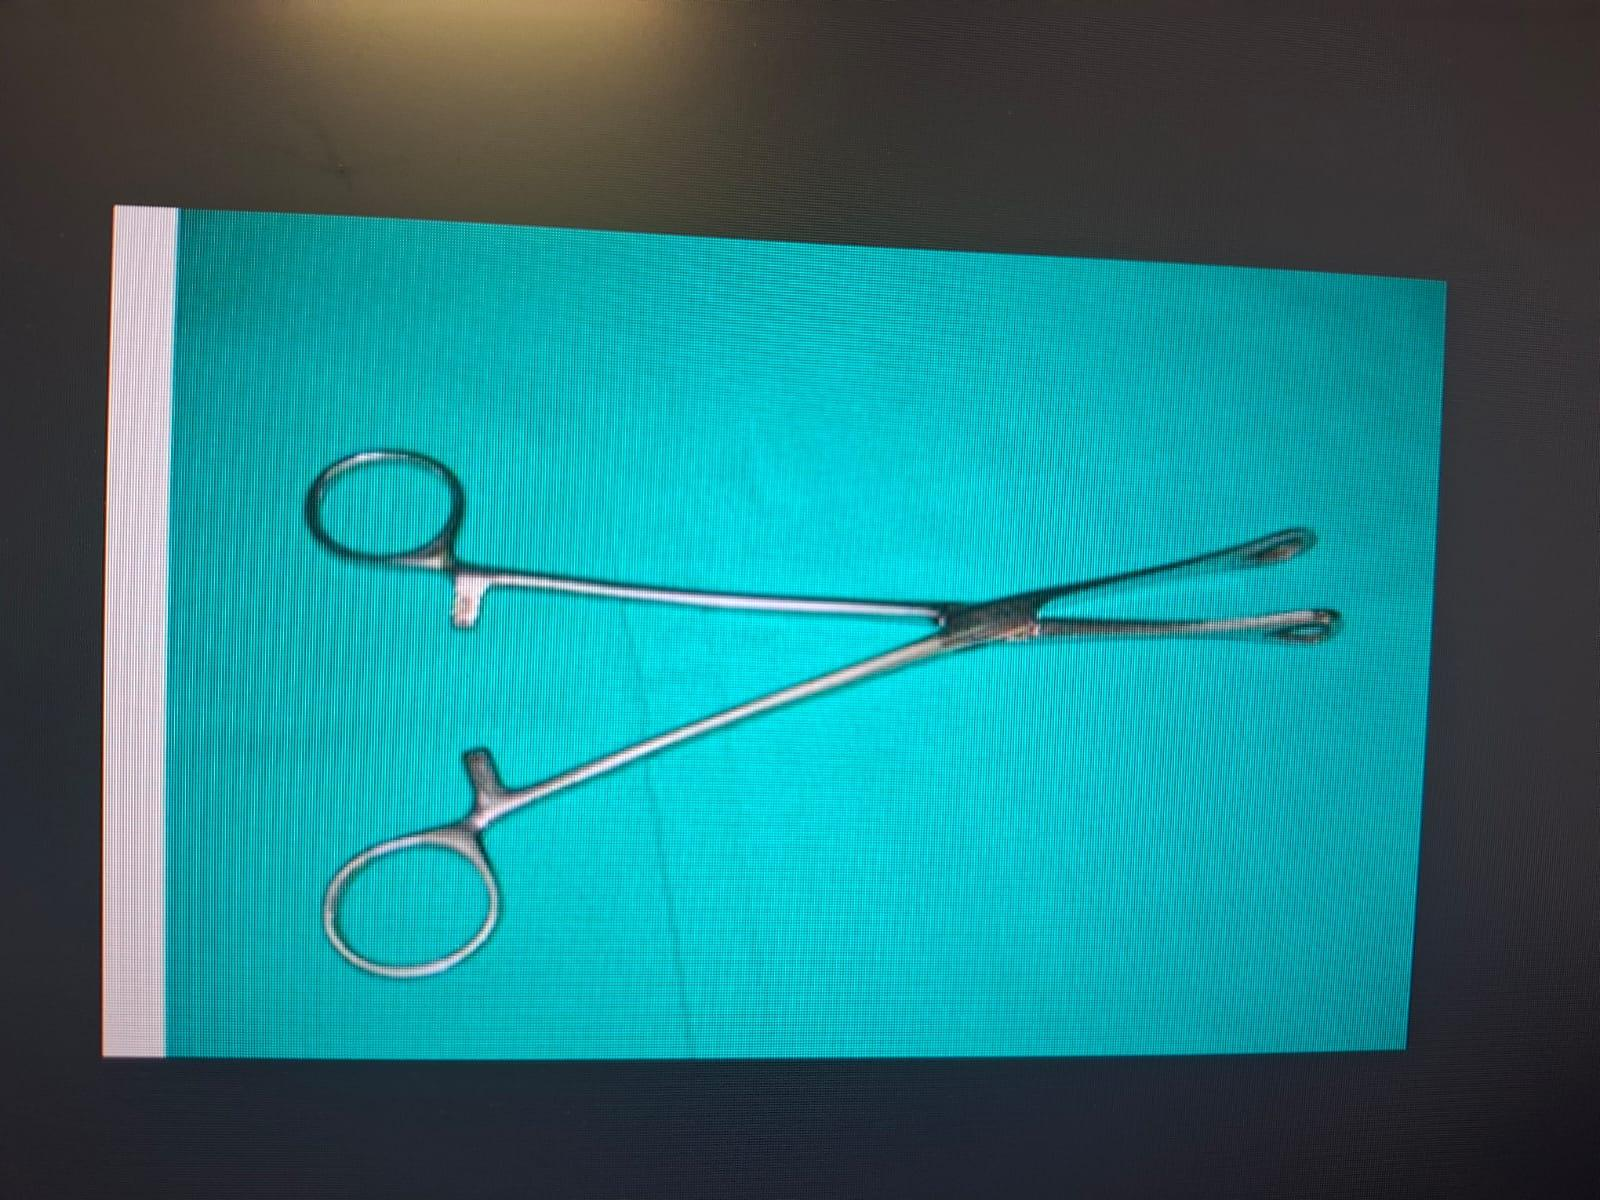Sponge Holding Forceps: (294, 434, 1351, 986)
